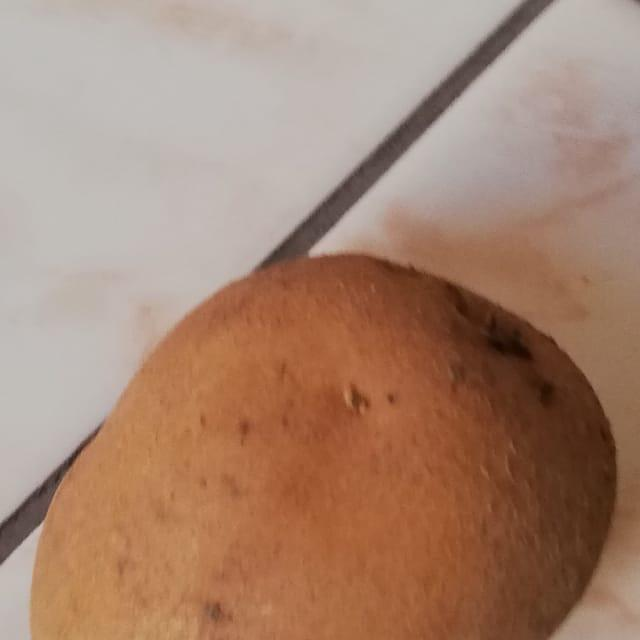potato: (15, 222, 632, 640)
